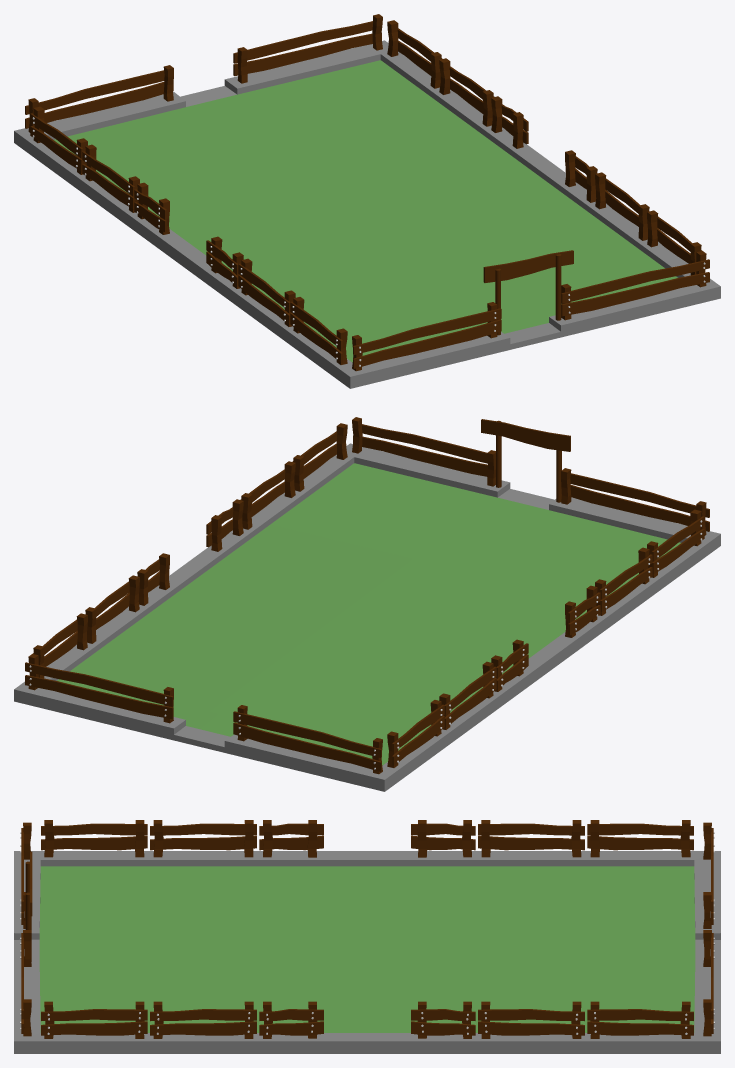
Rendered from Island Dragon_v4.fbx.
3 views of the same model, one above another, from view 1: azimuth 30°, elevation 25°; view 2: azimuth 150°, elevation 25°; view 3: azimuth 270°, elevation 25° (orthographic). The views are drawn at different scales.
Parts seen in each view (by area): view 1: polySurface896, polySurface897; view 2: polySurface896, polySurface897; view 3: polySurface896, polySurface897.
Boxes of the visible parts, box(x1,y1,x2,y2) form: polySurface896: box(14, 14, 720, 388); polySurface897: box(483, 250, 573, 335); polySurface896: box(14, 417, 720, 791); polySurface897: box(481, 419, 570, 502); polySurface896: box(14, 820, 720, 1053); polySurface897: box(25, 851, 32, 961).
Size of the model in its own units: 35.9 by 7.48 by 56.38.
